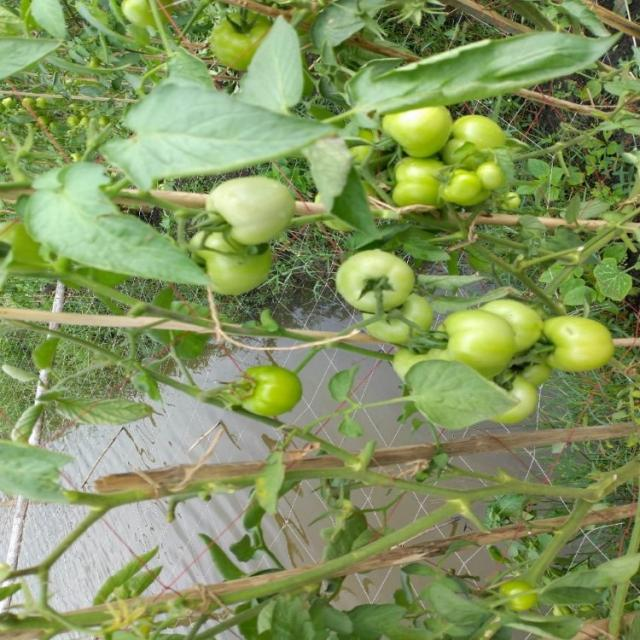tomato: (392, 307, 514, 379), (209, 176, 304, 260), (542, 297, 627, 378), (335, 247, 419, 325), (363, 97, 451, 163), (187, 227, 270, 294), (356, 284, 436, 345), (233, 363, 310, 423), (201, 8, 276, 65), (447, 112, 512, 173), (388, 152, 444, 221), (491, 289, 542, 358), (493, 370, 544, 422), (442, 164, 487, 213), (500, 577, 535, 619), (479, 152, 505, 199)
